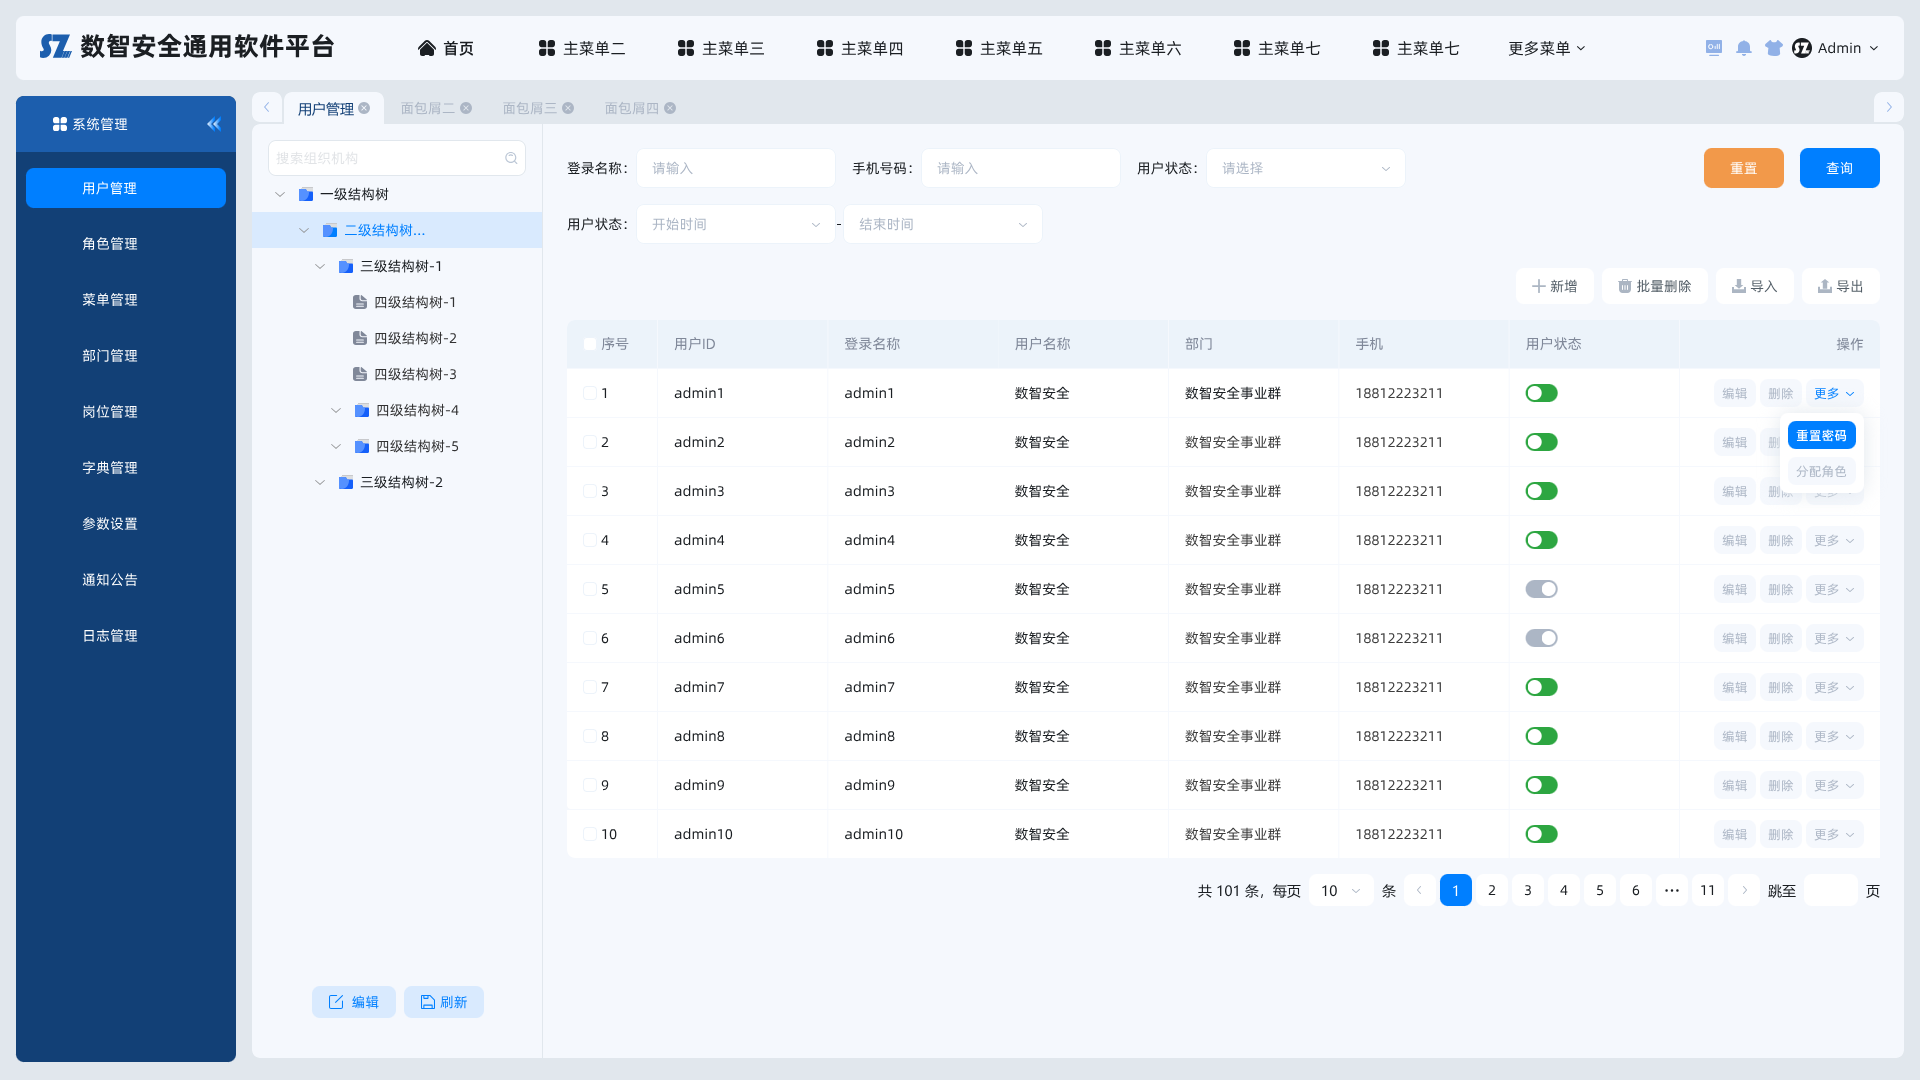label-input-input: (1203, 144, 1414, 194), (920, 144, 1129, 194), (634, 148, 839, 194)
label-input-label: (562, 208, 634, 243), (851, 152, 918, 182), (567, 150, 632, 179), (1138, 154, 1204, 182)
query-btn: (1793, 137, 1888, 198)
reset-btn: (1693, 136, 1791, 200)
table: (547, 313, 1900, 938)
